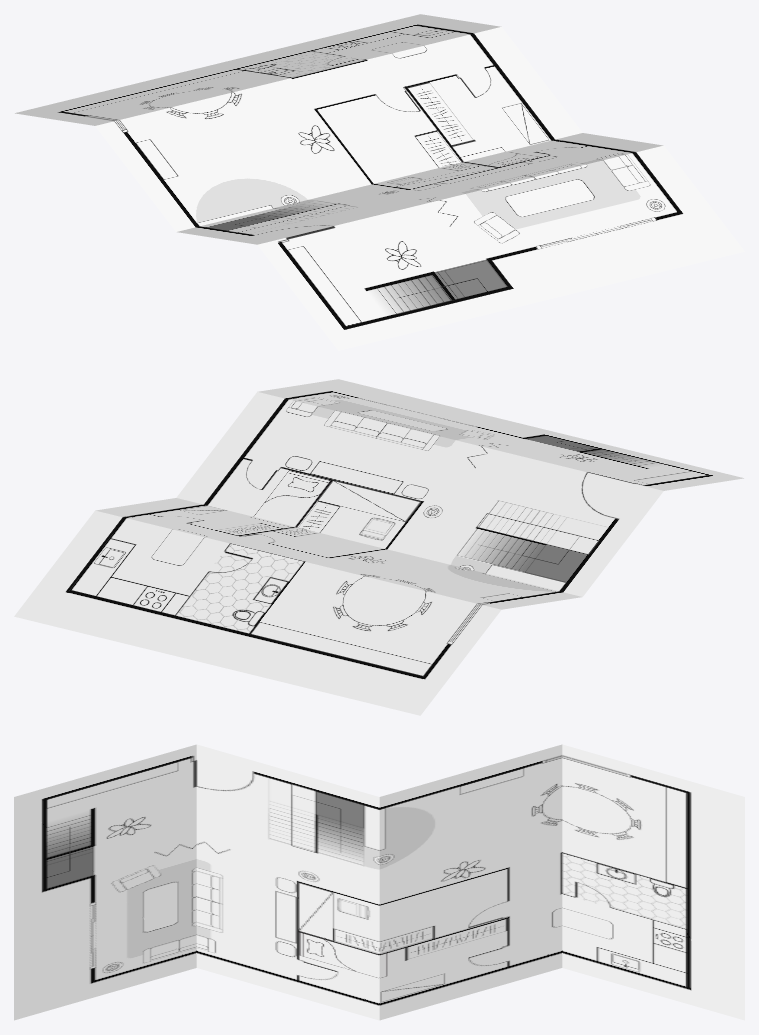
The model's file is L2_F1Map.fbx.
3 renders of one model, top to bottom at view 1: azimuth 30°, elevation 25°; view 2: azimuth 150°, elevation 25°; view 3: azimuth 270°, elevation 25°, orthographic. The views are drawn at different scales.
Visible parts, largest first — view 1: Plane; view 2: Plane; view 3: Plane.
Boxes of the visible parts, left/top/right/bottom form: Plane: left=15, top=14, right=744, bottom=350; Plane: left=14, top=379, right=743, bottom=715; Plane: left=14, top=744, right=744, bottom=1020.
Bounding box in the file's own units: 0.4418 × 0.0485 × 0.6107.
1 material, 1 textured.
